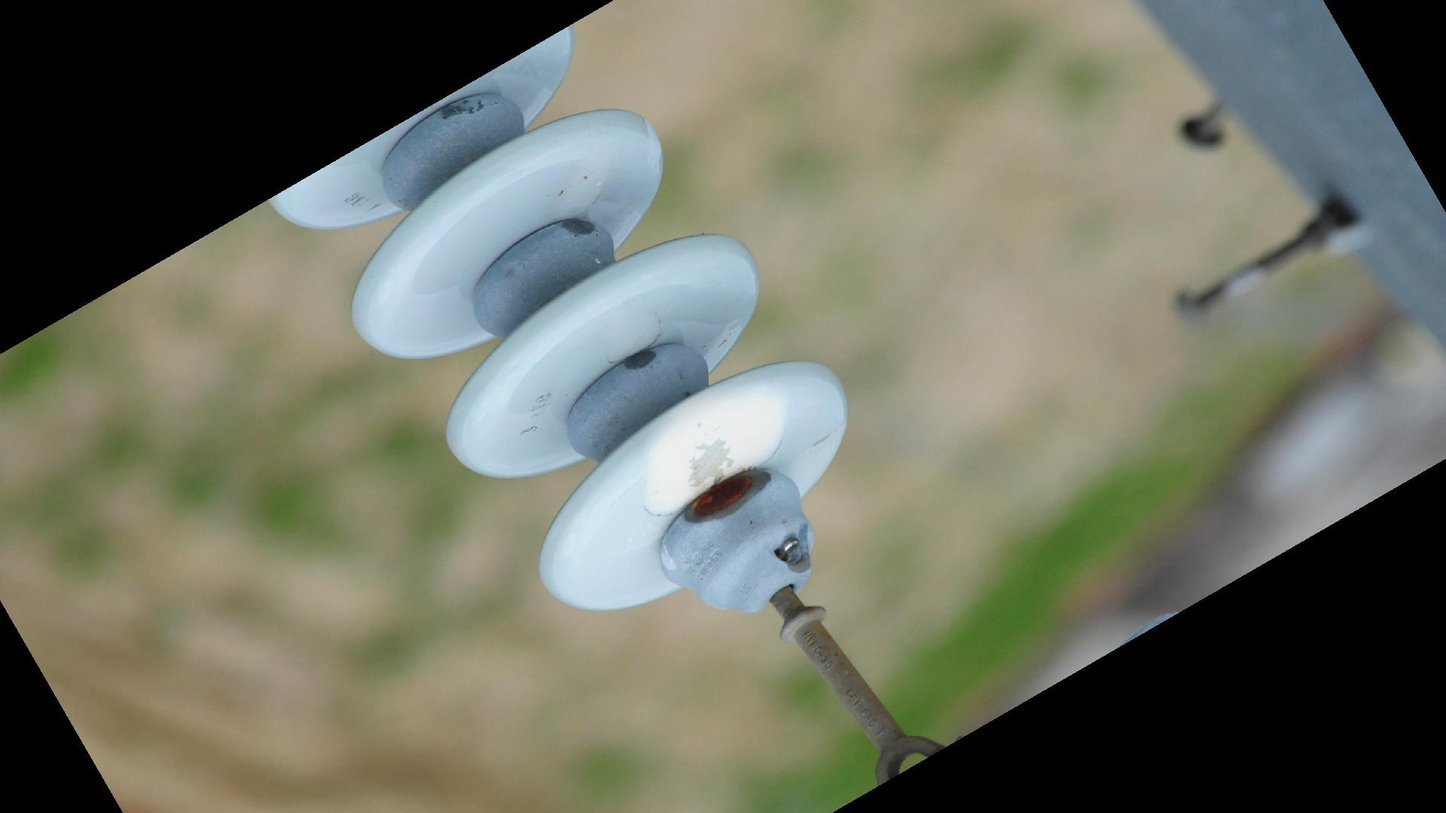insulator: (264, 20, 856, 620)
insulator_flashover: (636, 378, 790, 521)
